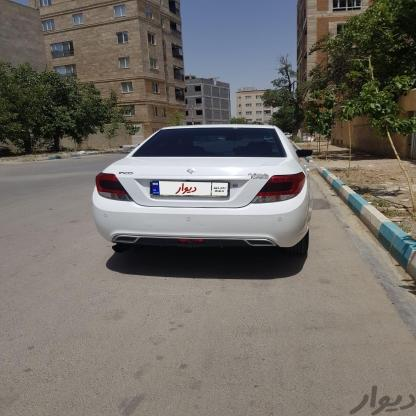Car: (84, 129, 324, 263)
